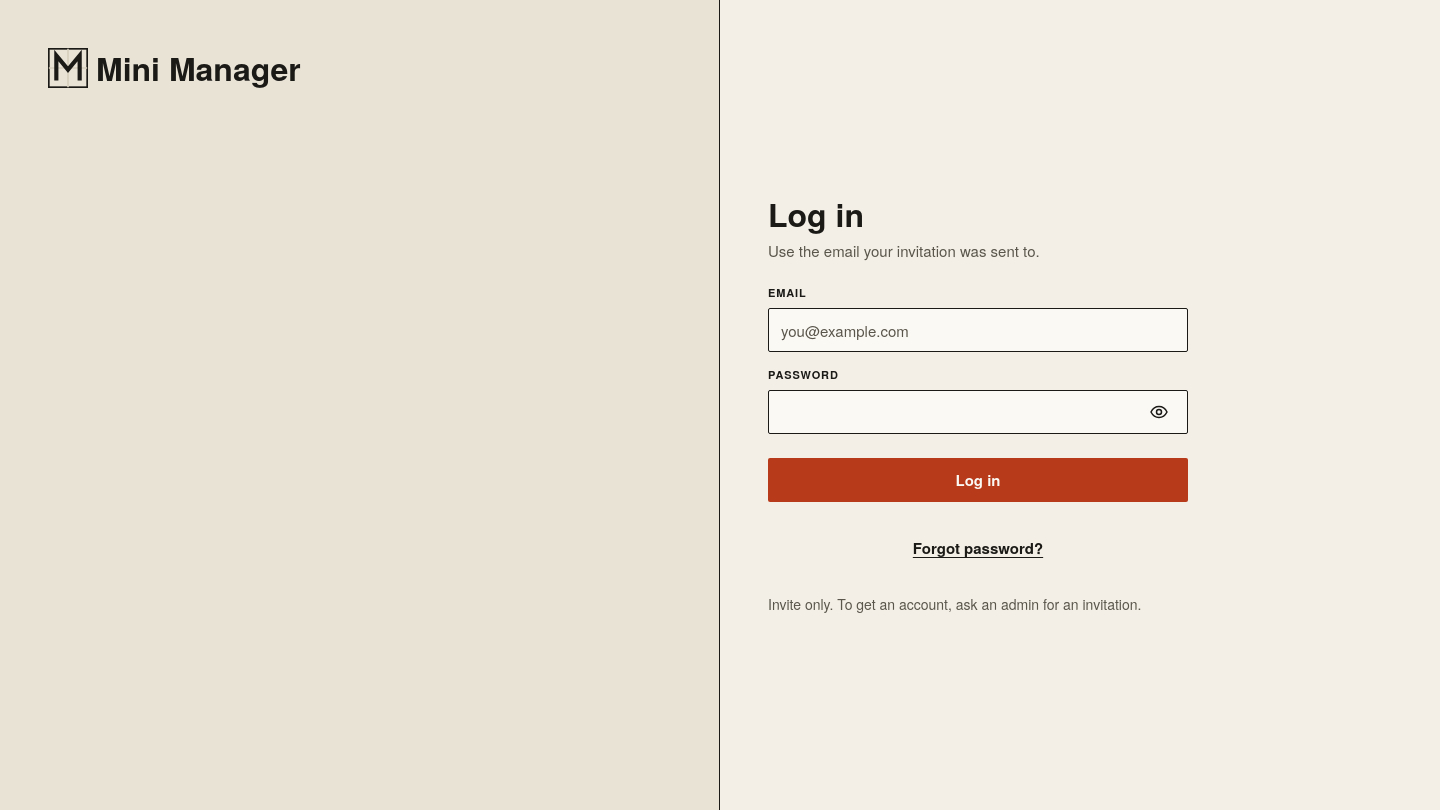
Test: LoginPage › card 2 rule 2: shows the one wrong-credentials message, keeps the email and clears the password
The width and height of the screenshot is (1440, 810).
Check: the heading "Log in" is shown, box [768,191,864,237]
In the field labelled "Email": (978, 330) [781,309,1175,351], type "mateus@example.com"
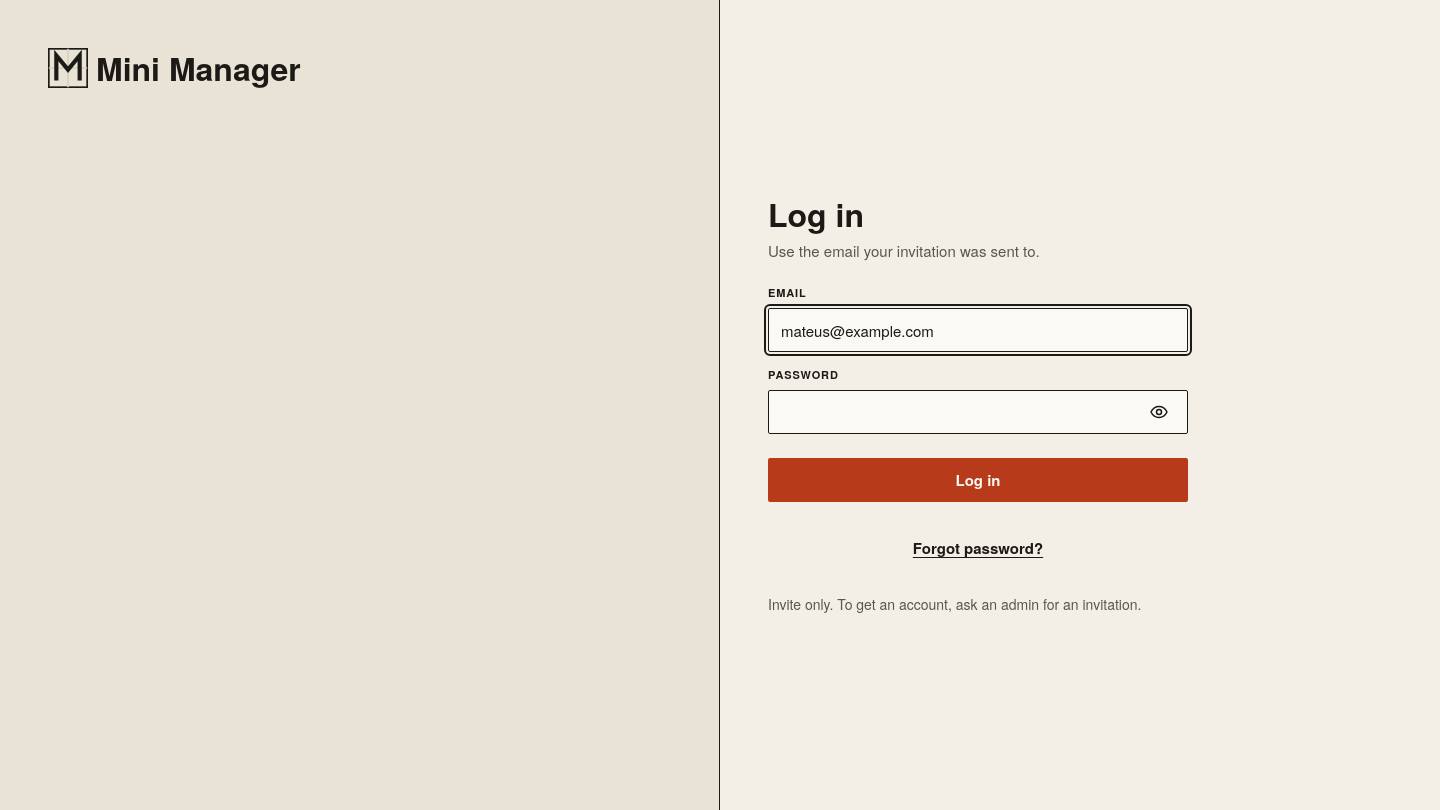
In the password field labelled "Password": (958, 412) [781,391,1135,433], type "wrong password"
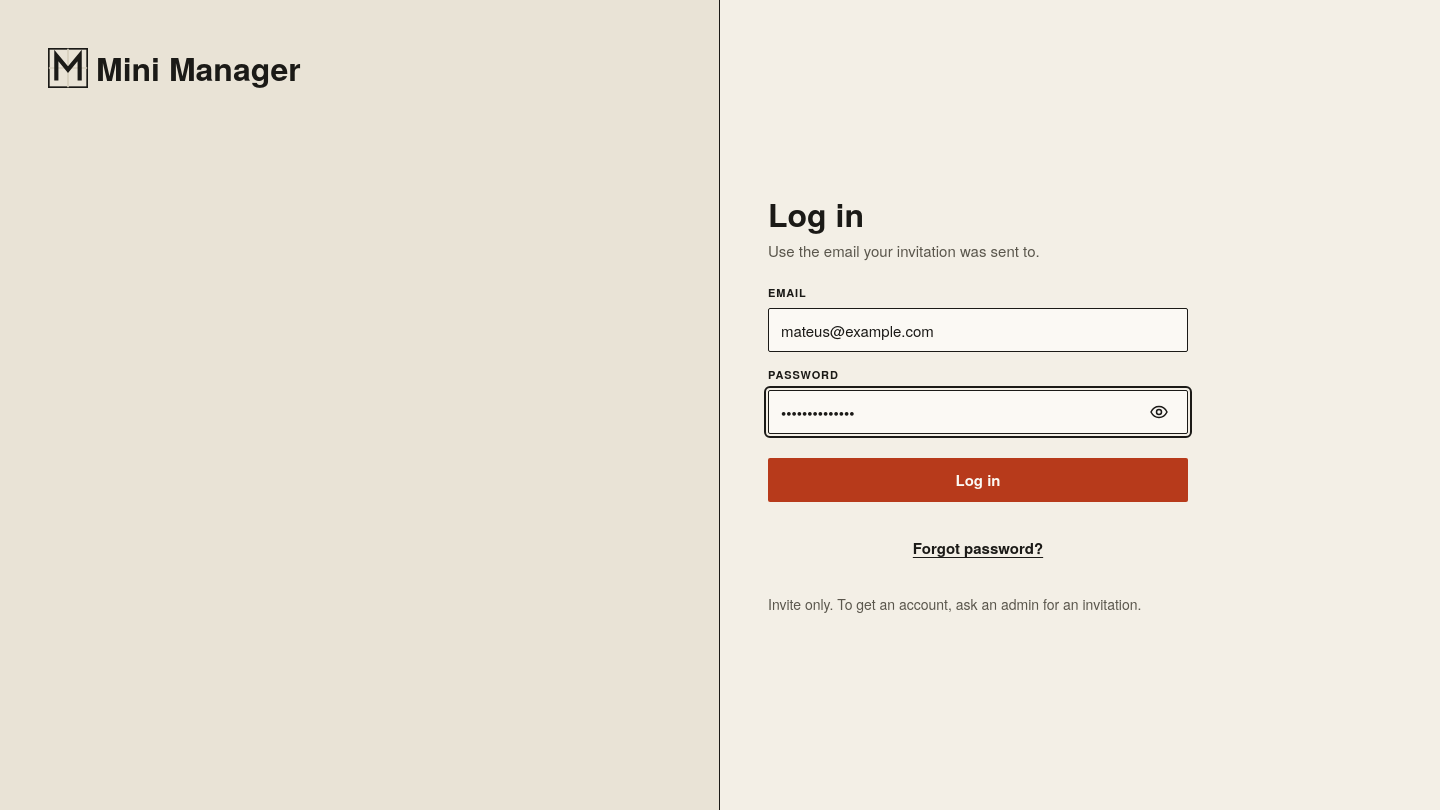
Click the button "Log in": (978, 480) [768,458,1188,502]
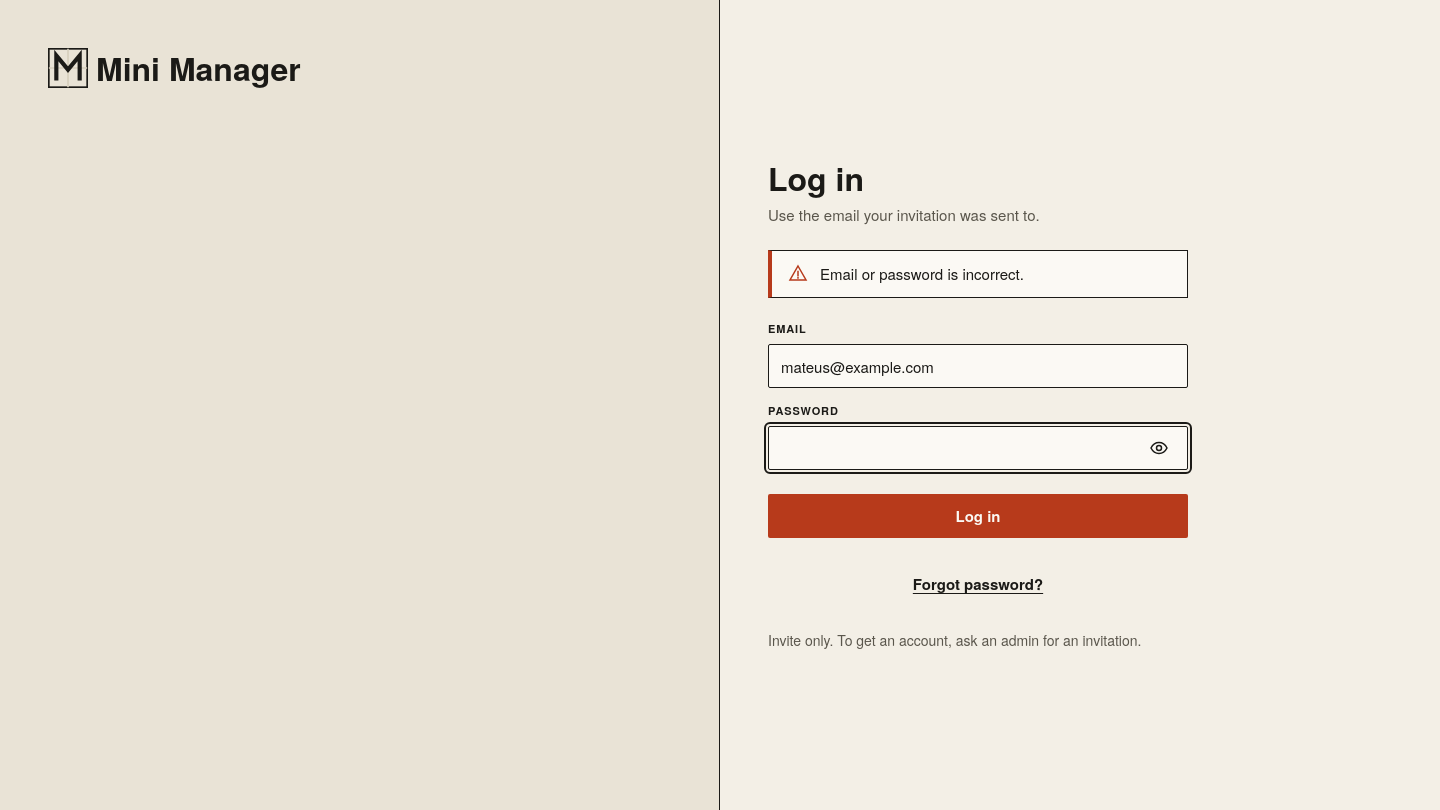
Check: the message reads "Email or password is incorrect.", box [820,263,1024,284]
Check: the password field labelled "Password" is empty, box [781,427,1135,469]
